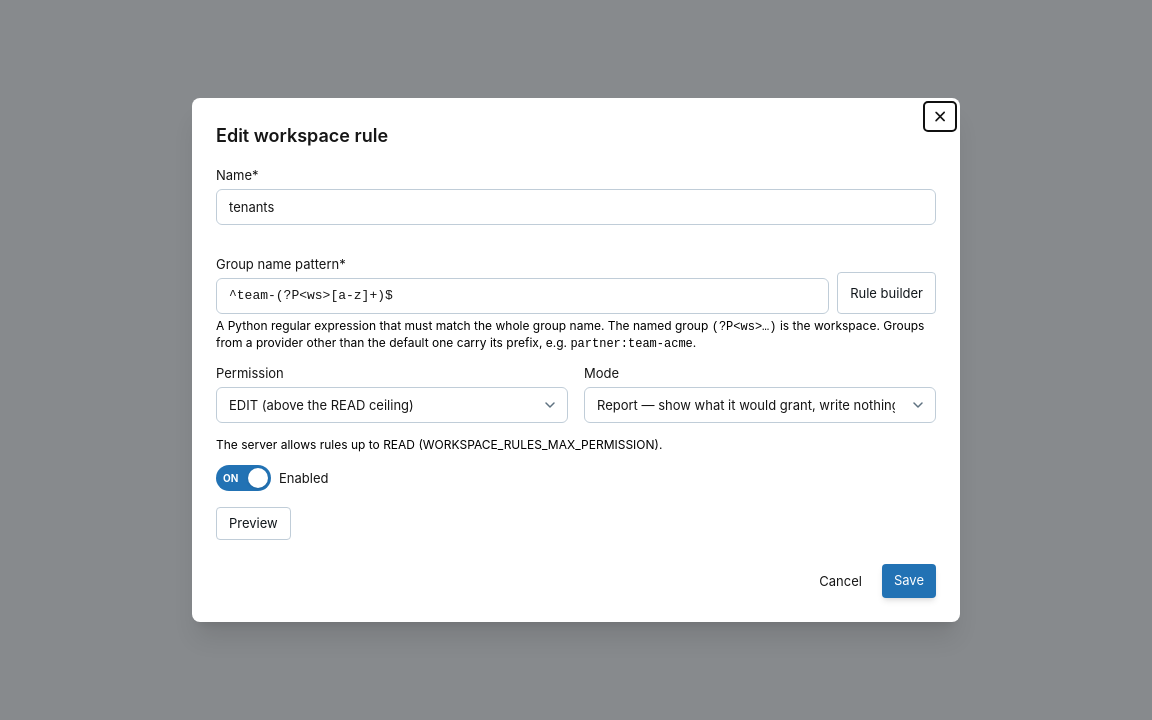
WorkspaceRuleModal › does not offer a preview the server would refuse for a permission above the ceiling
The width and height of the screenshot is (1152, 720).
Expected: the button "Preview" is enabled, [216,507,291,540]
Replace the text in the field labelled "Group name pattern*" with "^squad-(?P<ws>[a-z]+)$" at [523, 296], box [216,278,829,314]
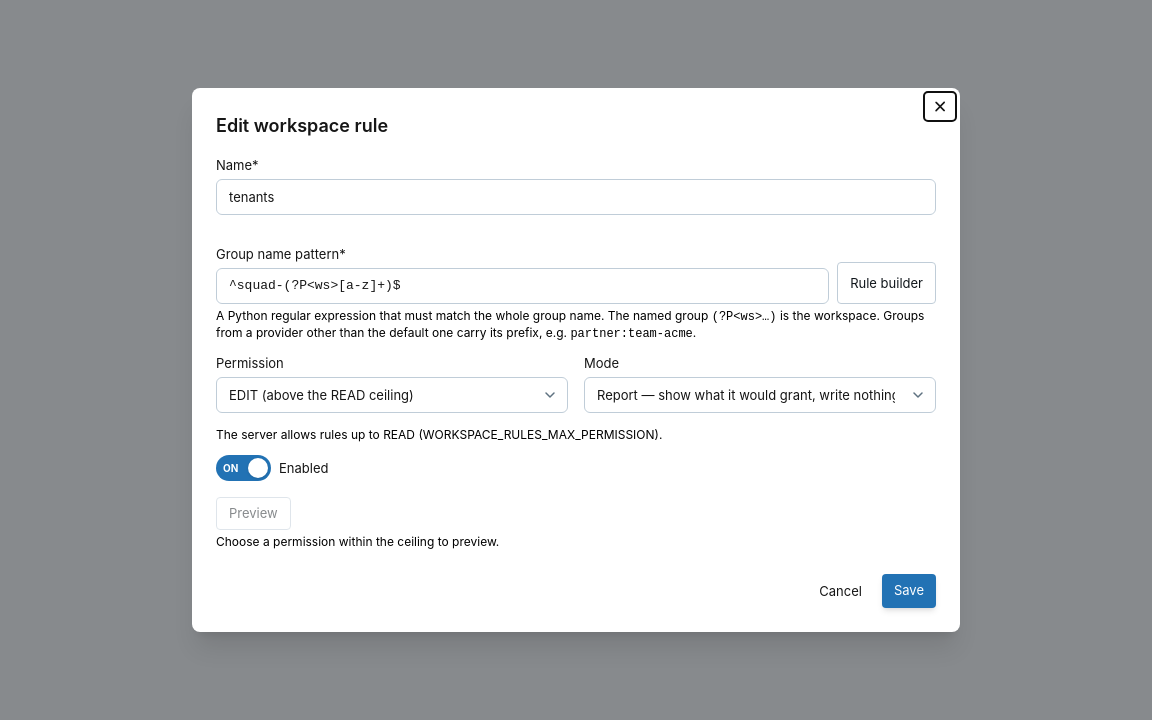
Now the button "Preview" is disabled, box [216,497,291,530]
Now the text "Choose a permission within the ceiling to preview." is shown, box [216,534,499,549]
